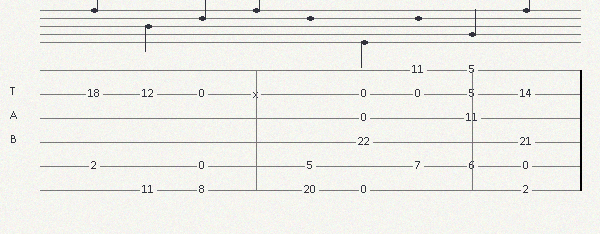0: (199, 88, 209, 100), (199, 160, 209, 172), (361, 112, 371, 124), (361, 88, 371, 100), (361, 184, 371, 196), (415, 88, 425, 100), (523, 160, 533, 172)
11: (142, 184, 158, 196), (412, 64, 428, 76), (466, 112, 482, 124)
12: (142, 88, 158, 100)
14: (520, 88, 536, 100)
18: (88, 88, 104, 100)
2: (91, 160, 101, 172), (523, 184, 533, 196)
20: (304, 184, 320, 196)
21: (520, 136, 536, 148)
22: (358, 136, 374, 148)
5: (307, 160, 317, 172), (469, 64, 479, 76), (469, 88, 479, 100)
6: (469, 160, 479, 172)
7: (415, 160, 425, 172)
8: (199, 184, 209, 196)
x: (253, 89, 262, 99)
